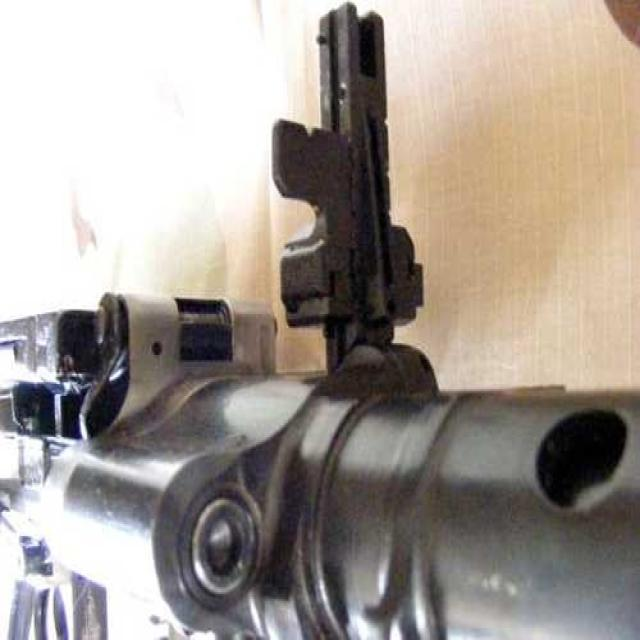Rifle: (6, 262, 636, 640)
